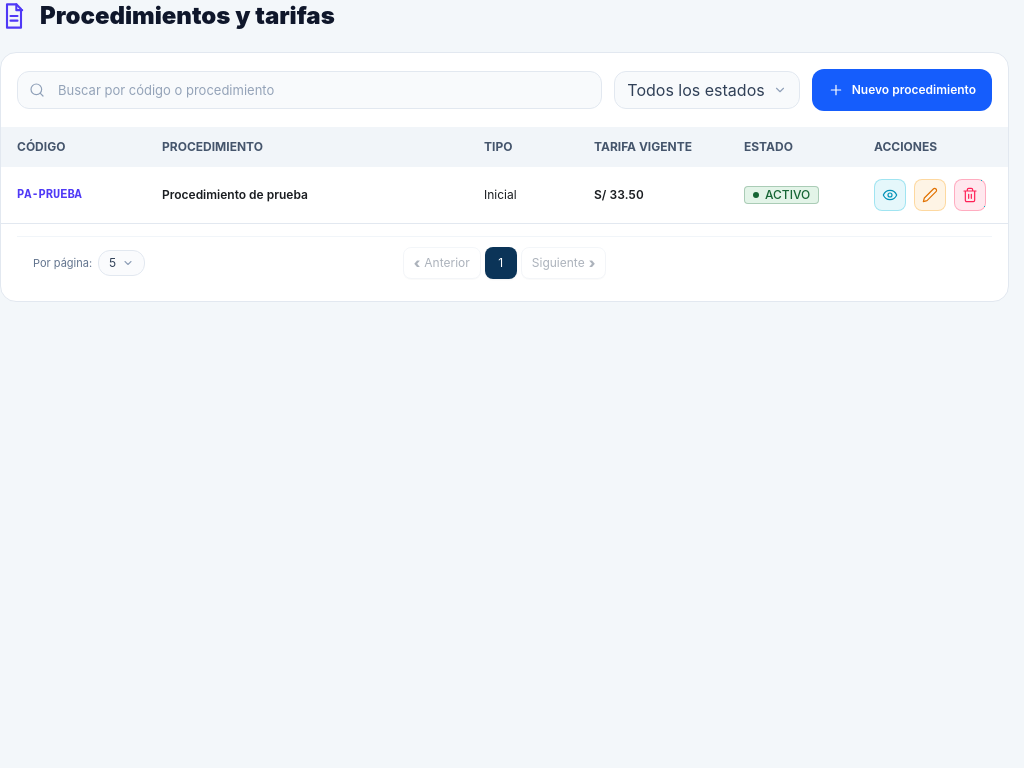
Test case: muestra el historial sin modificar registros
Click the button named "Ver PA-PRUEBA": point(890, 195) [874,179,906,211]
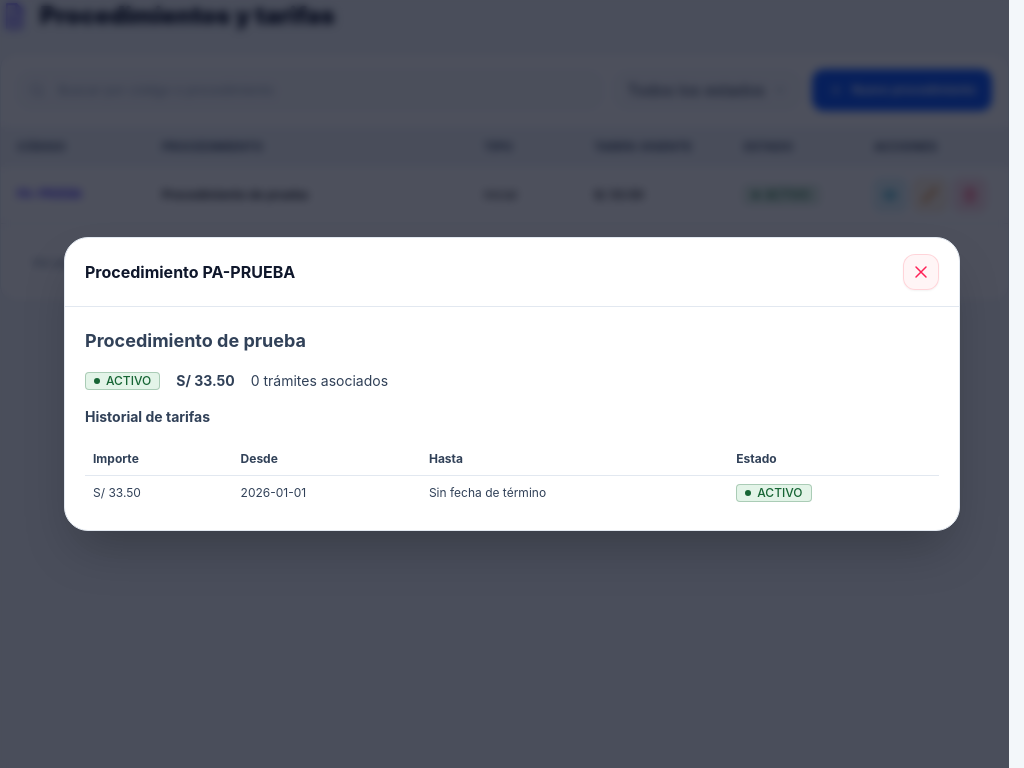
Expected: the dialog shows "2026-01-01", [241,485,306,500]
